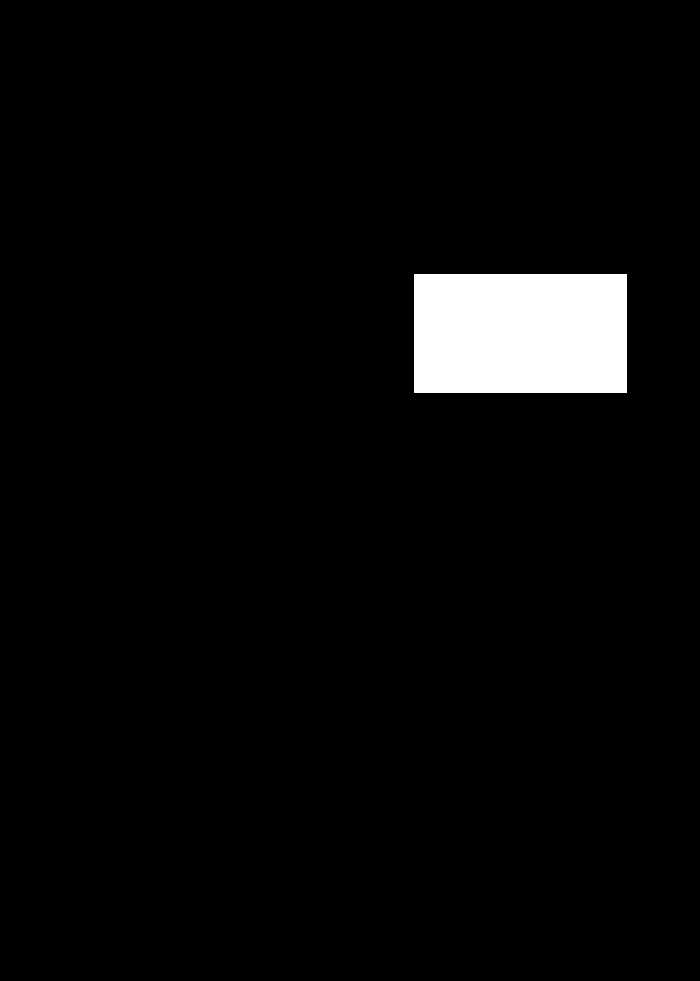table: (414, 274, 626, 392)
